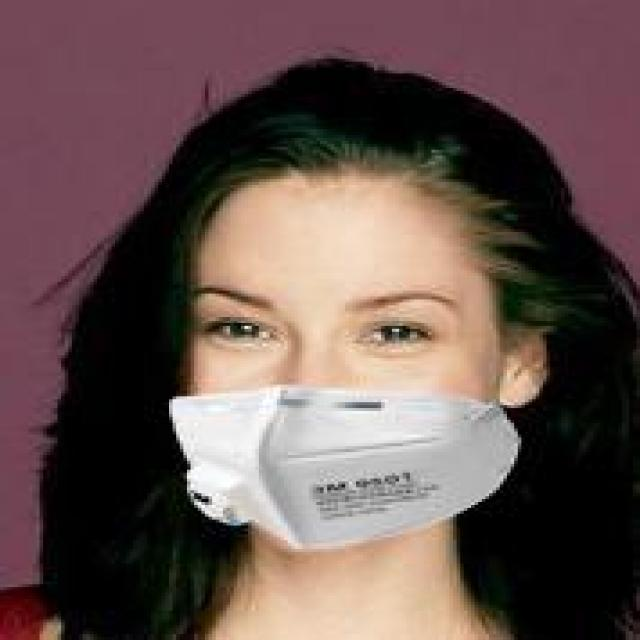mask: (119, 64, 557, 566)
